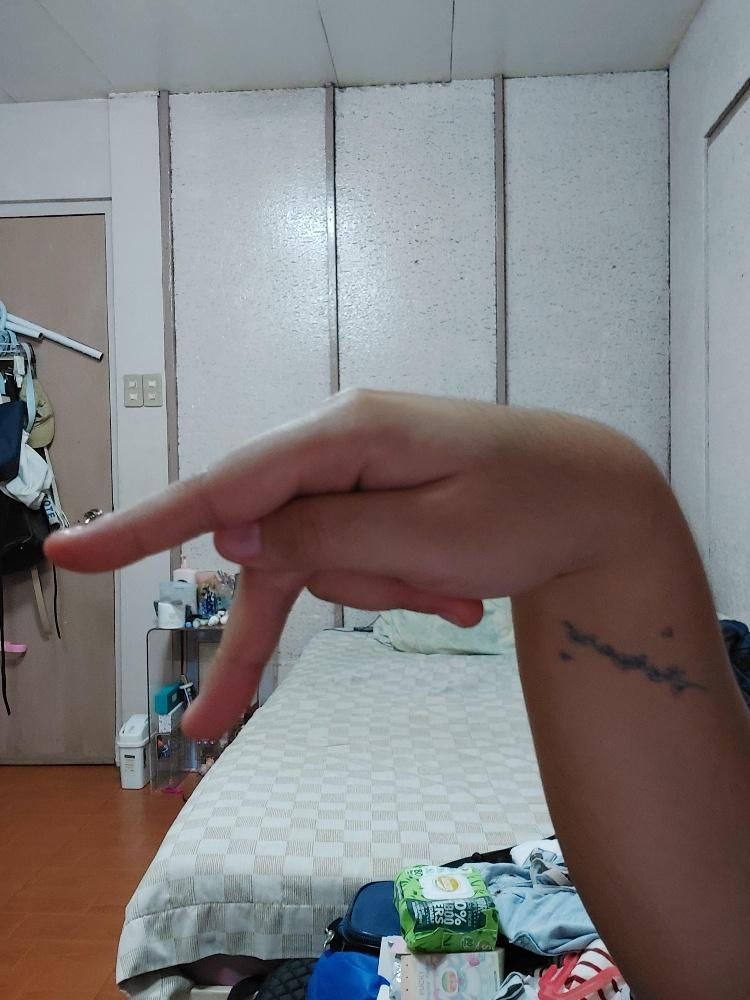p: (41, 384, 665, 740)
